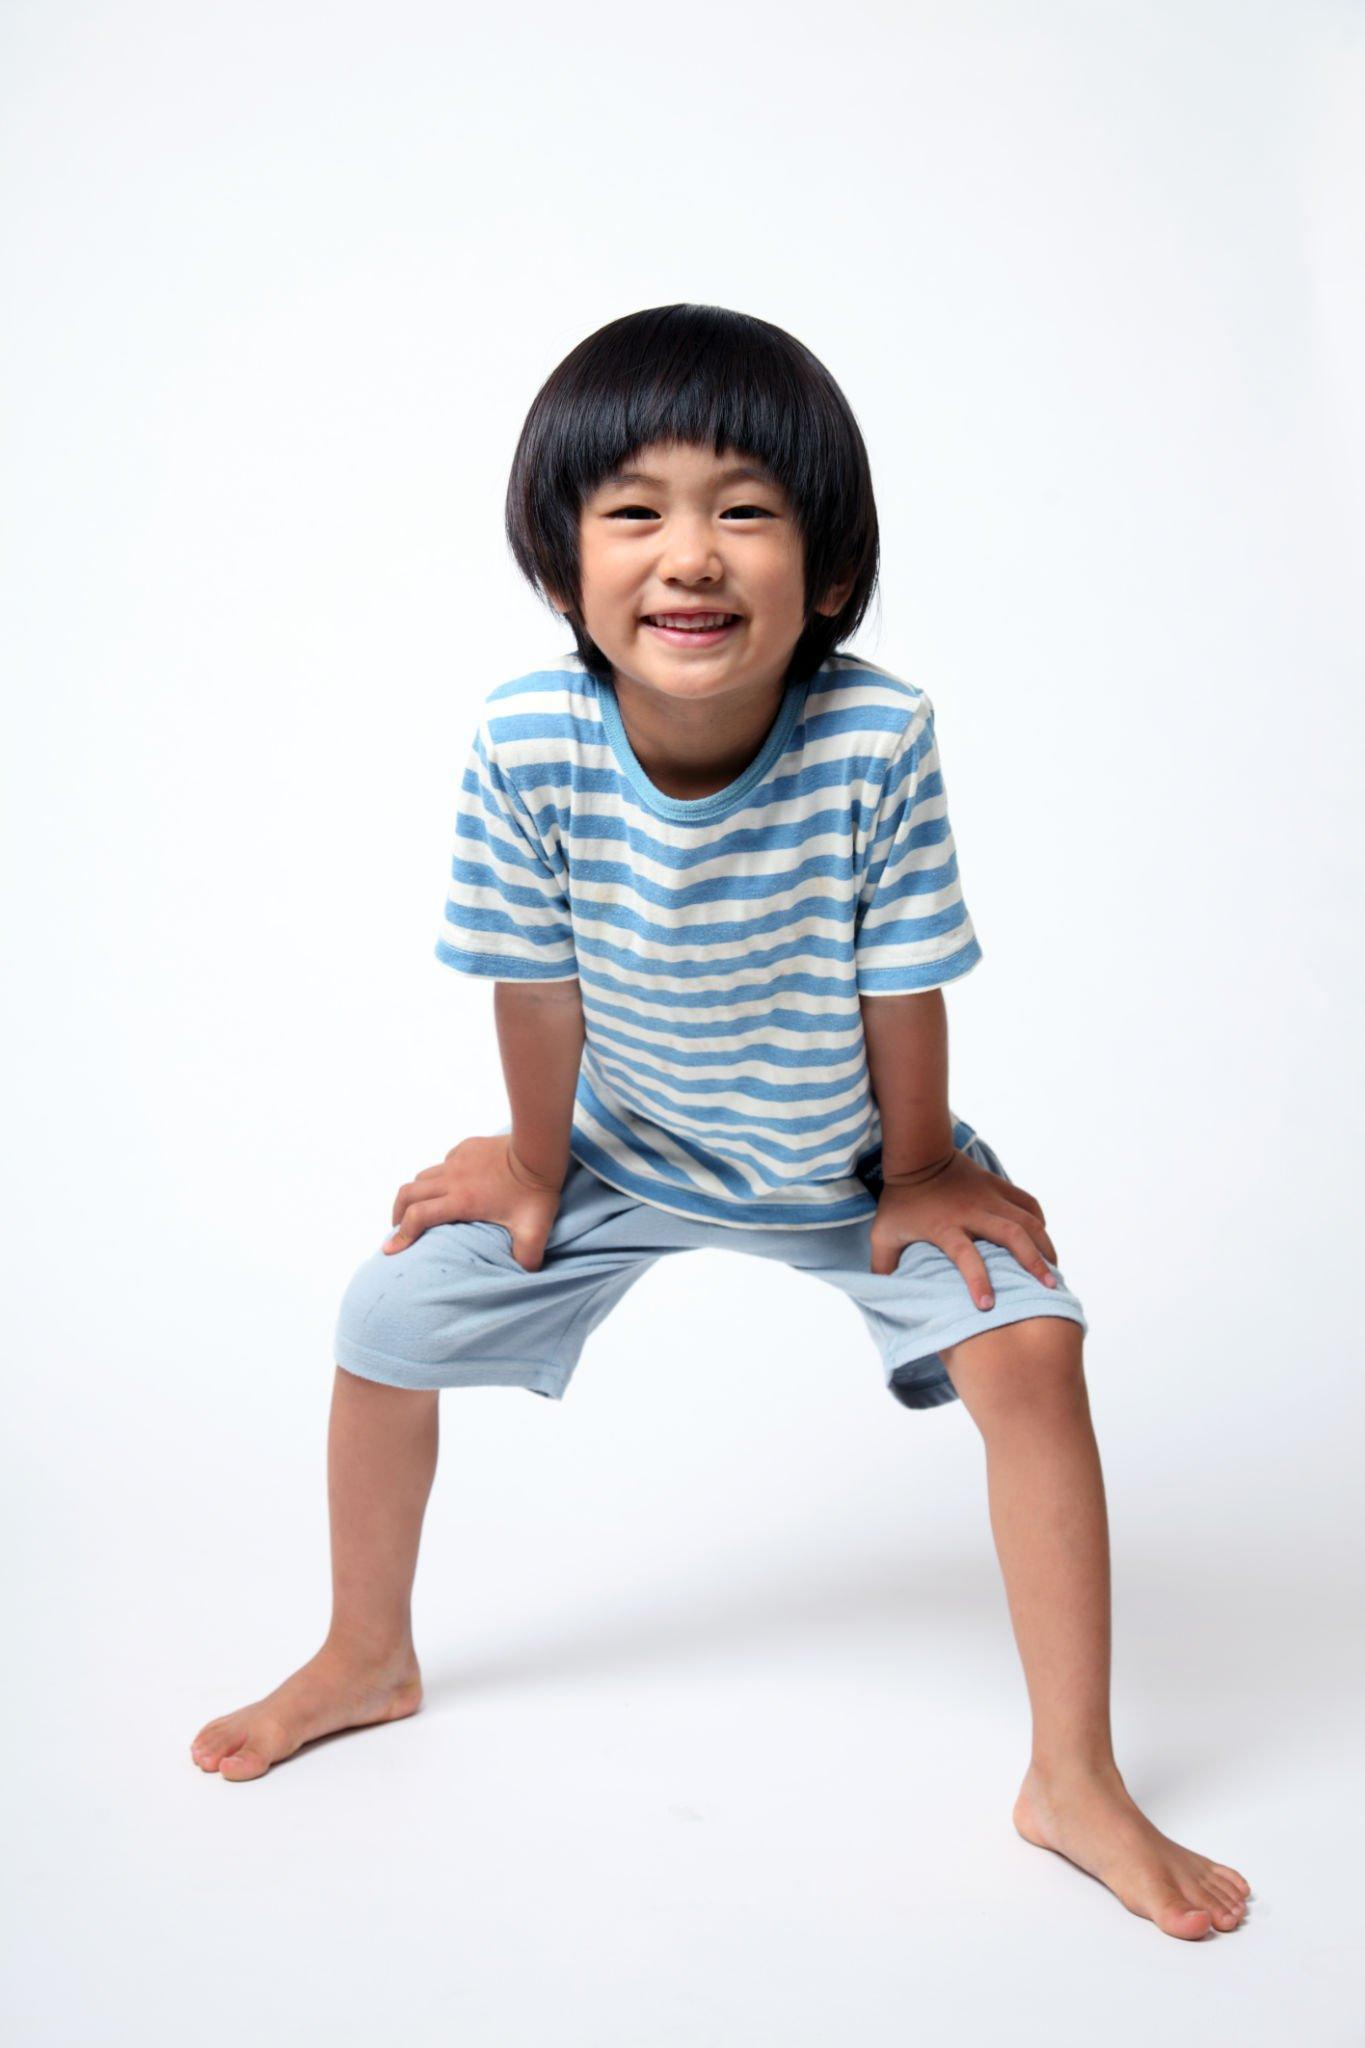Healthy: (547, 397, 849, 699)
